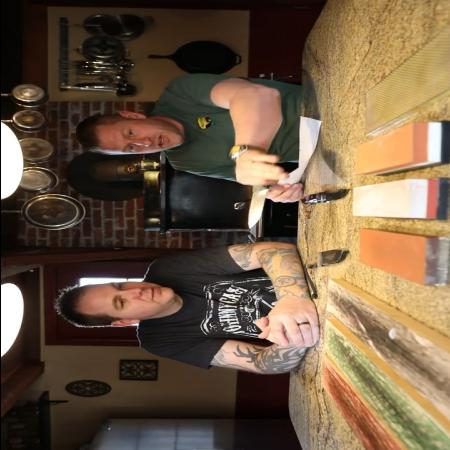long weapon: (227, 156, 289, 232)
